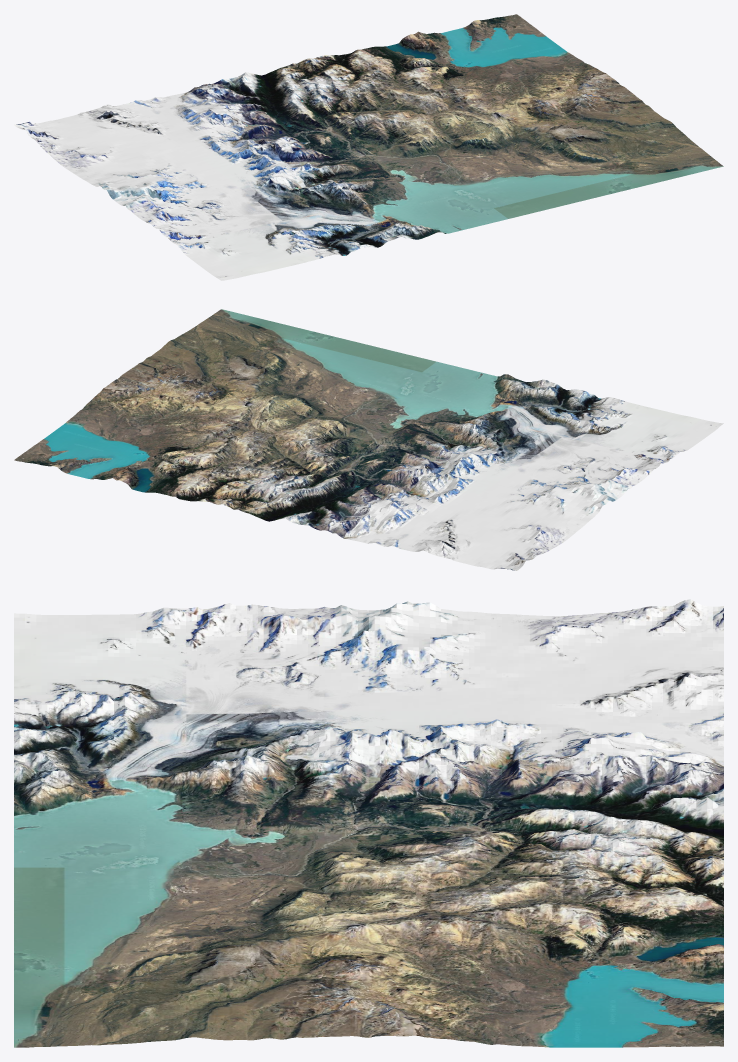
The model's file is patagonia.glb.
3 views of the same model, one above another, from view 1: azimuth 30°, elevation 25°; view 2: azimuth 150°, elevation 25°; view 3: azimuth 270°, elevation 25° (orthographic). The views are drawn at different scales.
Visible parts, largest first — view 1: EXPORT_GOOGLE_SAT_WM; view 2: EXPORT_GOOGLE_SAT_WM; view 3: EXPORT_GOOGLE_SAT_WM.
Part boxes in pixels (x1,y1,x2,y2): EXPORT_GOOGLE_SAT_WM: (14,14,723,280); EXPORT_GOOGLE_SAT_WM: (14,309,723,570); EXPORT_GOOGLE_SAT_WM: (14,599,723,1047).
Bounding box in the file's own units: 136975 × 4801 × 97839.
Materials: 1 (1 with a texture image).
